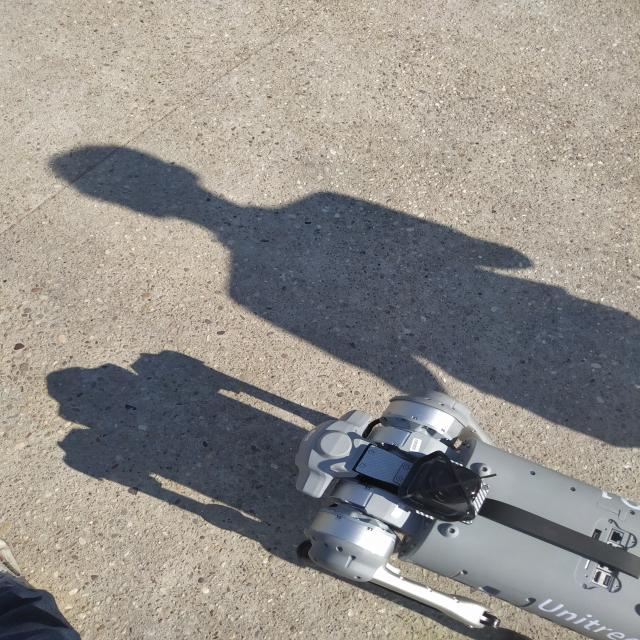unitree-go1-robot: (282, 378, 639, 640)
